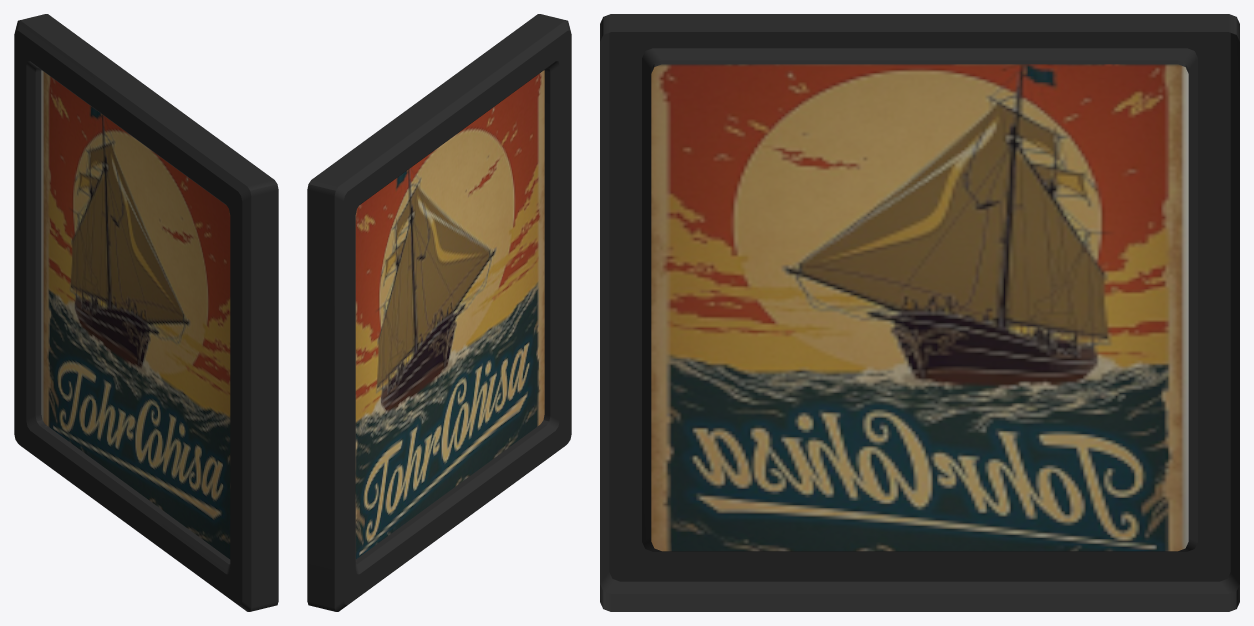
File: SM_Frame14.fbx
The picture shows the model from 3 angles, left to right: view 1: azimuth 30°, elevation 25°; view 2: azimuth 150°, elevation 25°; view 3: azimuth 270°, elevation 25°; orthographic projection. The views are drawn at different scales.
Parts seen in each view (by area): view 1: SM_Frame14_LOD0; view 2: SM_Frame14_LOD0; view 3: SM_Frame14_LOD0.
Boxes of the visible parts, x1=… form: SM_Frame14_LOD0: x1=14, y1=14, x2=278, y2=611; SM_Frame14_LOD0: x1=307, y1=14, x2=571, y2=611; SM_Frame14_LOD0: x1=600, y1=14, x2=1239, y2=611.
Bounding box in the file's own units: 4.08 × 50 × 50.
Materials: 1 (1 with a texture image).
